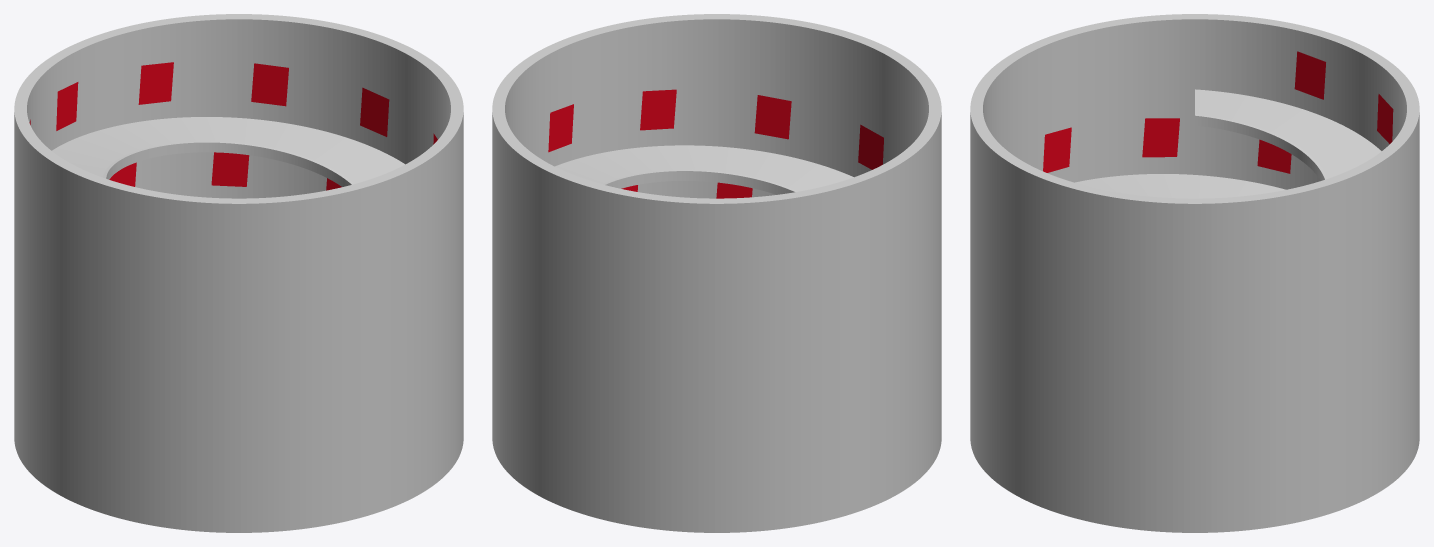
The model's file is stares.gltf.
The picture shows the model from 3 angles, left to right: view 1: azimuth 30°, elevation 25°; view 2: azimuth 150°, elevation 25°; view 3: azimuth 270°, elevation 25°; orthographic projection.
Parts seen in each view (by area): view 1: Circle, Plane.001, Images.004, Images.003, Images.015, Images.005, Images.002; view 2: Circle, Plane.001, Images.008, Images.007, Images.006, Images.009; view 3: Circle, Plane.001, Images.011, Images.001, Images.010, Images.012, Images.002.
Part boxes in pixels (left/top/right/bottom): Circle: left=14, top=14, right=463, bottom=532; Plane.001: left=52, top=117, right=404, bottom=186; Images.004: left=251, top=63, right=288, bottom=106; Images.003: left=138, top=62, right=173, bottom=104; Images.015: left=211, top=152, right=249, bottom=186; Images.005: left=360, top=87, right=389, bottom=136; Images.002: left=56, top=82, right=78, bottom=130; Circle: left=492, top=14, right=941, bottom=532; Plane.001: left=555, top=145, right=853, bottom=194; Images.008: left=754, top=95, right=791, bottom=139; Images.007: left=640, top=89, right=676, bottom=130; Images.006: left=548, top=104, right=573, bottom=152; Images.009: left=858, top=124, right=883, bottom=169; Circle: left=970, top=14, right=1419, bottom=532; Plane.001: left=1075, top=89, right=1381, bottom=198; Images.011: left=1142, top=118, right=1179, bottom=157; Images.001: left=1294, top=51, right=1325, bottom=99; Images.010: left=1043, top=127, right=1071, bottom=172; Images.012: left=1257, top=139, right=1291, bottom=173; Images.002: left=1377, top=94, right=1393, bottom=143.
Bounding box in the file's own units: 191 × 154 × 191.
